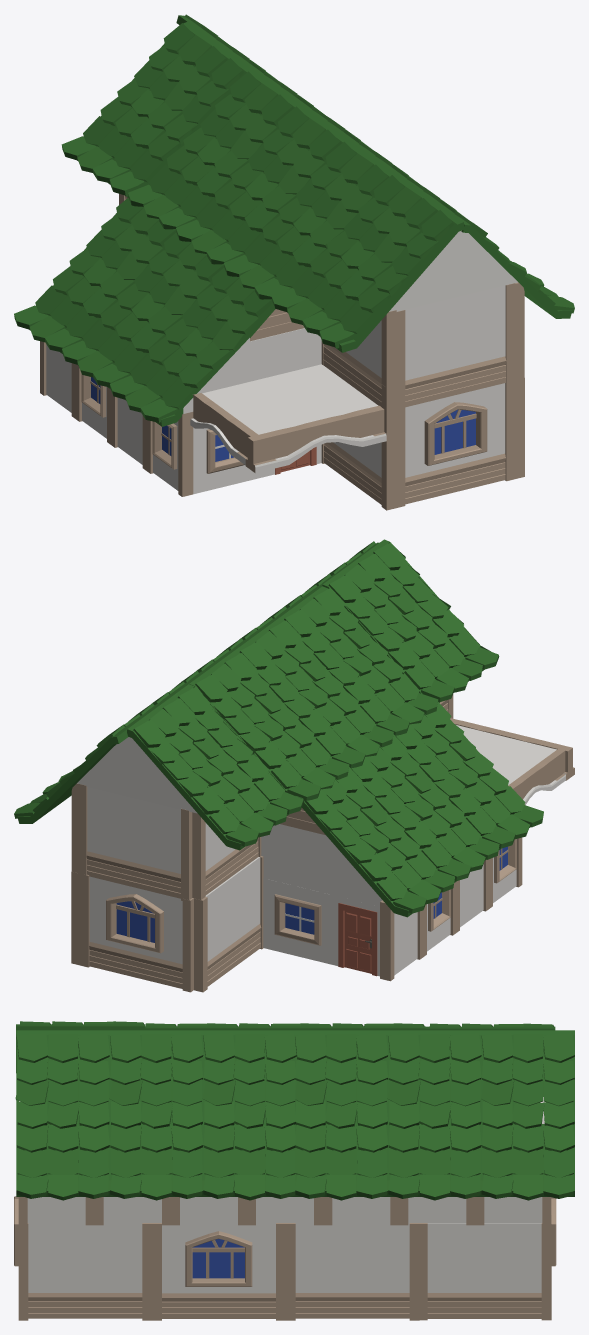
File: House_01.obj
3 views of the same model, one above another, from view 1: azimuth 30°, elevation 25°; view 2: azimuth 150°, elevation 25°; view 3: azimuth 270°, elevation 25° (orthographic). The views are drawn at different scales.
Parts seen in each view (by area): view 1: House_01_Cube.062; view 2: House_01_Cube.062; view 3: House_01_Cube.062.
Boxes of the visible parts, x1,y1,x2,y2 form: House_01_Cube.062: (14,14,574,510); House_01_Cube.062: (14,539,574,992); House_01_Cube.062: (14,1021,574,1320).
Size of the model in its own units: 15.16 by 10.89 by 20.85.
